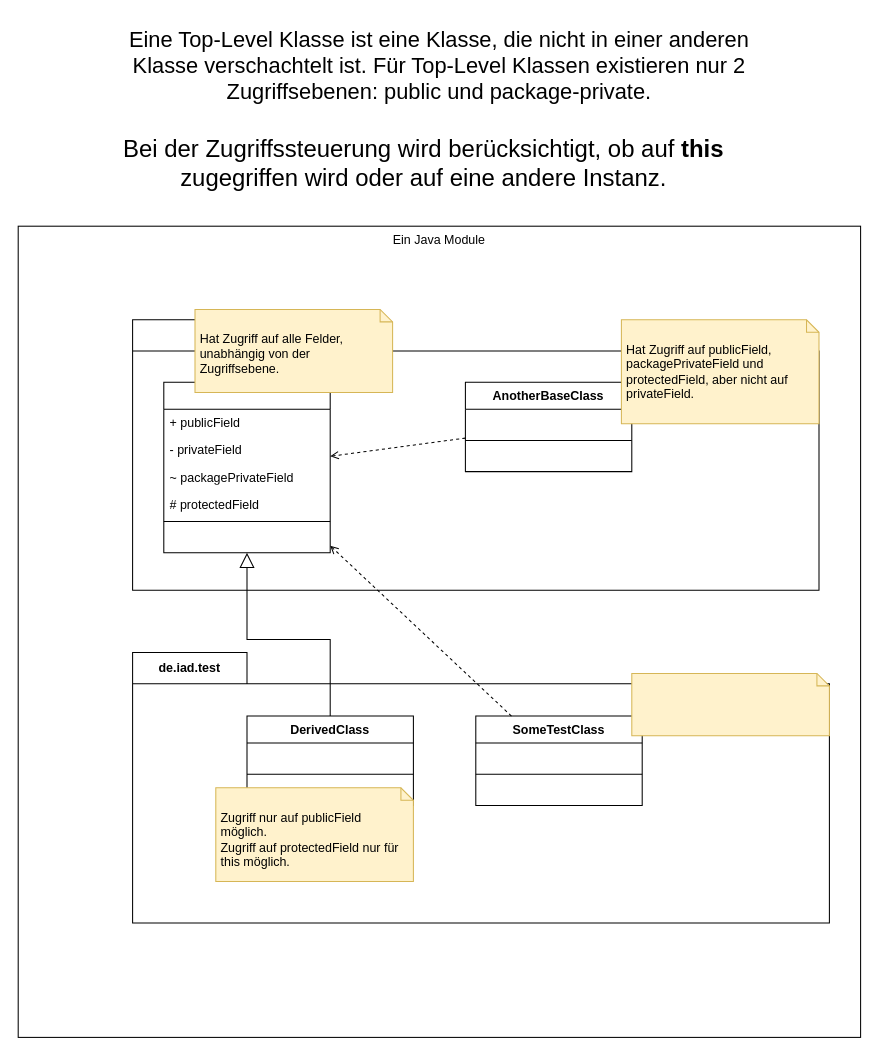
Image size: 879x1056. Some labels were removed from this diagram. Each missing label, with the box of its shape:
BaseClass: (163, 381, 330, 553)
de.iad.access: (132, 319, 819, 590)
Zugriff ist nur auf publicField möglich.: (631, 672, 829, 736)
